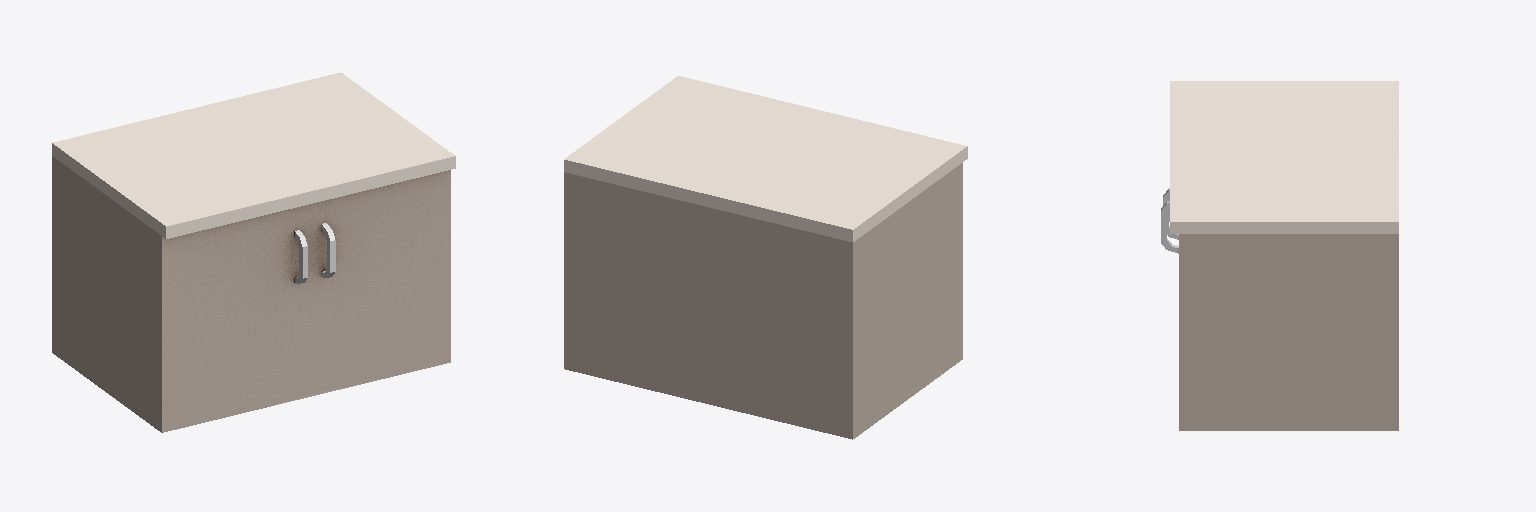
The picture shows the model from 3 angles: view 1: azimuth 30°, elevation 25°; view 2: azimuth 150°, elevation 25°; view 3: azimuth 270°, elevation 25°; orthographic projection.
Parts seen in each view (by area): view 1: Cube.007_Cube.006; view 2: Cube.007_Cube.006; view 3: Cube.007_Cube.006.
Boxes of the visible parts, x1=… form: Cube.007_Cube.006: x1=52, y1=72, x2=455, y2=432; Cube.007_Cube.006: x1=564, y1=76, x2=967, y2=439; Cube.007_Cube.006: x1=1170, y1=81, x2=1398, y2=430.
Bounding box in the file's own units: 4 × 2.77 × 2.85.
Materials: 1 (1 with a texture image).